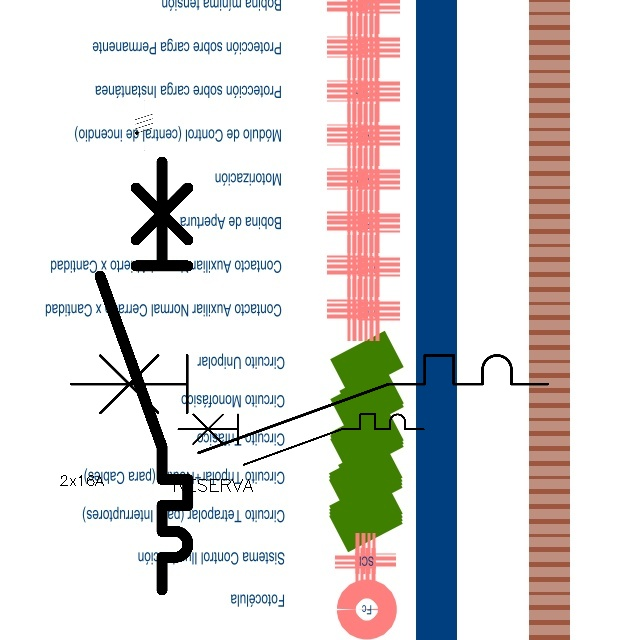interruptor_termomagnetico: (59, 343, 560, 465), (89, 150, 199, 600), (172, 408, 430, 471)
